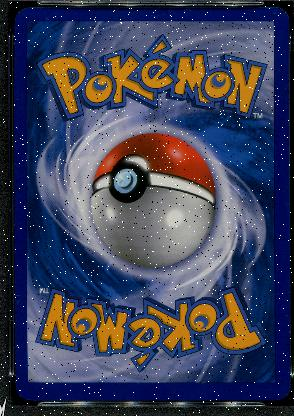Card: (10, 4, 292, 404)
Corner Wear: (13, 10, 21, 28), (279, 6, 288, 16), (282, 390, 290, 398), (15, 390, 22, 396), (26, 398, 37, 401)
Edge Wear: (14, 379, 16, 384)
Scratch: (148, 12, 166, 18), (266, 291, 279, 297), (136, 7, 142, 17), (280, 184, 286, 192), (181, 8, 191, 12), (16, 298, 21, 304), (199, 380, 206, 384), (14, 294, 21, 297), (283, 312, 288, 316), (270, 10, 275, 14), (44, 16, 49, 20), (286, 290, 289, 294), (14, 164, 19, 166)
